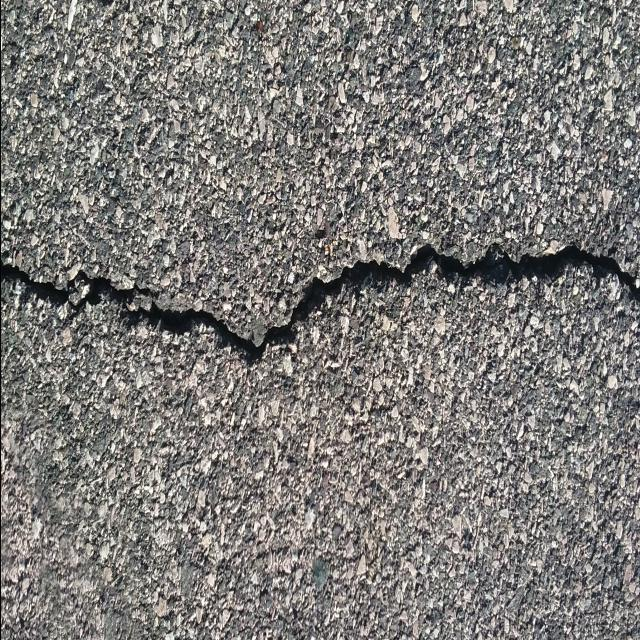Crack: (0, 241, 640, 373)
